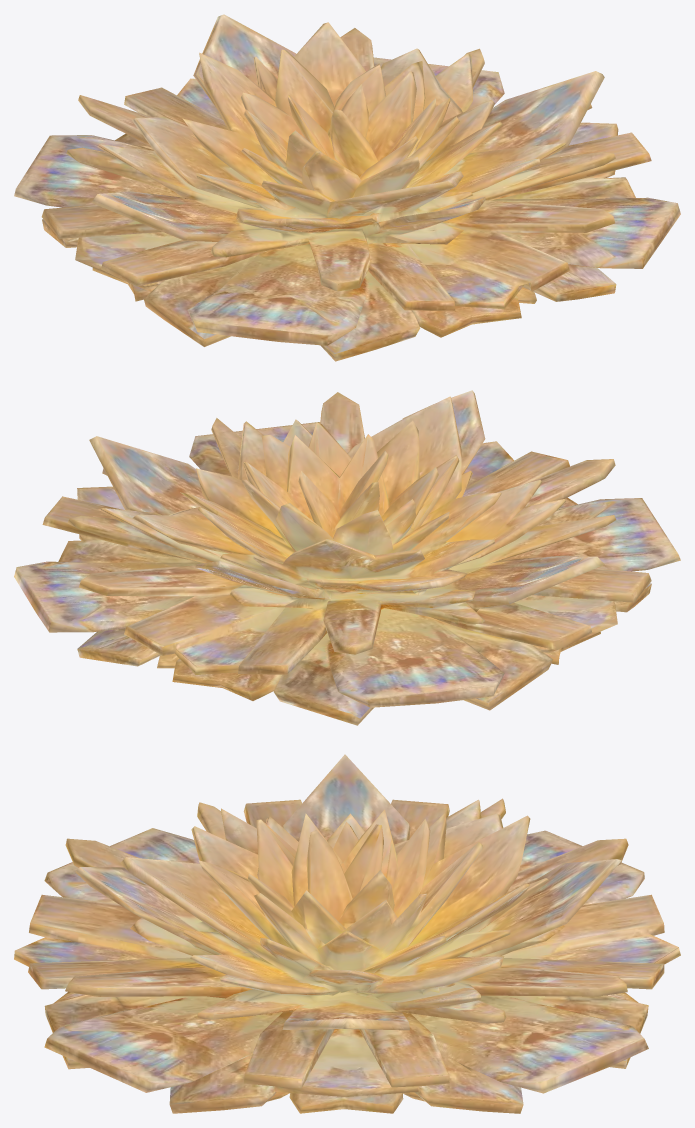
File: crystal-plate-golden.glb
3 renders of one model, top to bottom at view 1: azimuth 30°, elevation 25°; view 2: azimuth 150°, elevation 25°; view 3: azimuth 270°, elevation 25°, orthographic. The views are drawn at different scales.
Visible parts, largest first — view 1: Mesh1.0; view 2: Mesh1.0; view 3: Mesh1.0.
Boxes of the visible parts, box(x1,y1,x2,y2) form: Mesh1.0: box(14, 14, 680, 361); Mesh1.0: box(14, 390, 680, 725); Mesh1.0: box(14, 754, 680, 1113).
Size of the model in its own units: 1.91 by 0.5341 by 1.88.
1 material, 1 textured.
